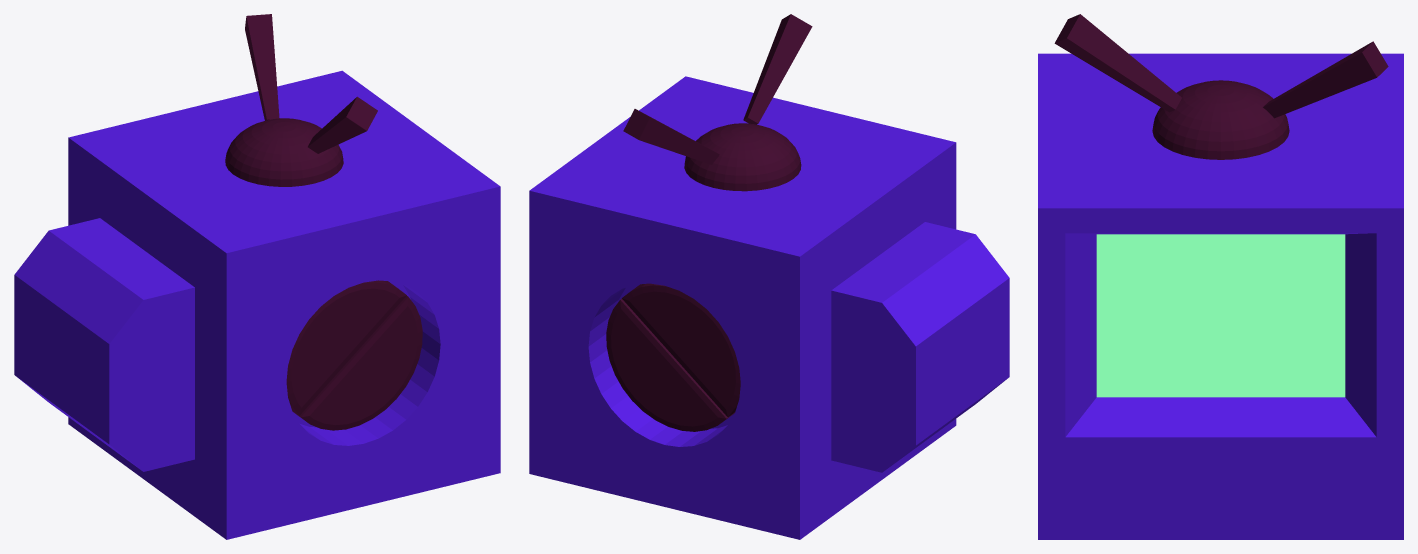
The model's file is TV_HEAD_No_Outline_Basic_Color.glb.
3 renders of one model, left to right at view 1: azimuth 30°, elevation 25°; view 2: azimuth 150°, elevation 25°; view 3: azimuth 270°, elevation 25°, orthographic. The views are drawn at different scales.
Visible parts, largest first — view 1: Main_Body, Left_Bot_Button, Left_Top_Button, Antenna_Base, Antenna_Right, Antenna_Left; view 2: Main_Body, Right_Bot_Button, Right_Top_Button, Antenna_Base, Antenna_Left, Antenna_Right; view 3: Main_Body, Antenna_Base, Antenna_Left, Antenna_Right.
Part boxes in pixels (<box>): Main_Body: <box>14,70,500,539</box>; Left_Bot_Button: <box>292,296,422,430</box>; Left_Top_Button: <box>286,280,406,415</box>; Antenna_Base: <box>225,118,343,186</box>; Antenna_Right: <box>245,14,279,120</box>; Antenna_Left: <box>308,96,377,153</box>; Main_Body: <box>529,76,1009,539</box>; Right_Bot_Button: <box>606,299,734,431</box>; Right_Top_Button: <box>622,283,740,416</box>; Antenna_Base: <box>684,123,801,191</box>; Antenna_Left: <box>743,14,812,124</box>; Antenna_Right: <box>623,109,719,164</box>; Main_Body: <box>1038,53,1403,539</box>; Antenna_Base: <box>1152,80,1289,159</box>; Antenna_Left: <box>1054,14,1181,112</box>; Antenna_Right: <box>1263,41,1388,118</box>.
Bounding box in the file's own units: 10.5 × 10.98 × 8.
